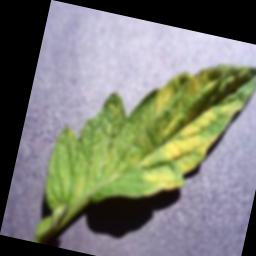Leaf_Mold: (127, 39, 256, 213)
